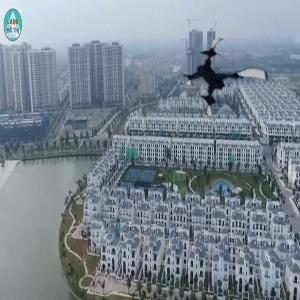drone: (181, 36, 270, 125)
